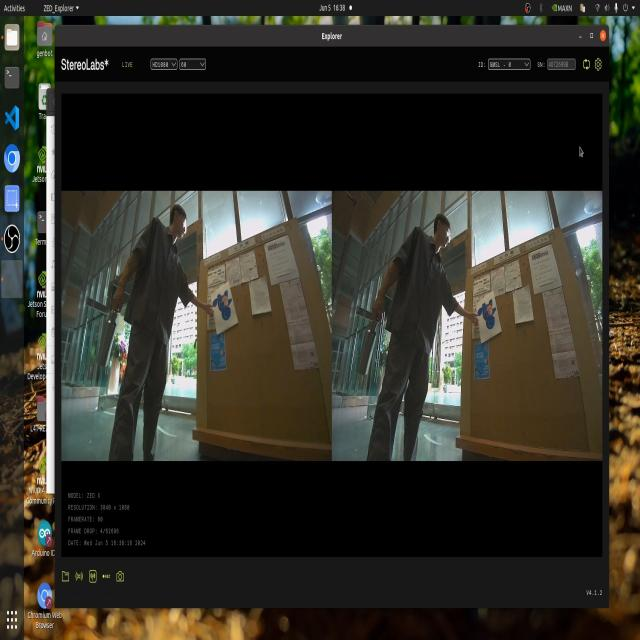blue: (480, 286, 503, 341), (212, 291, 240, 324)
